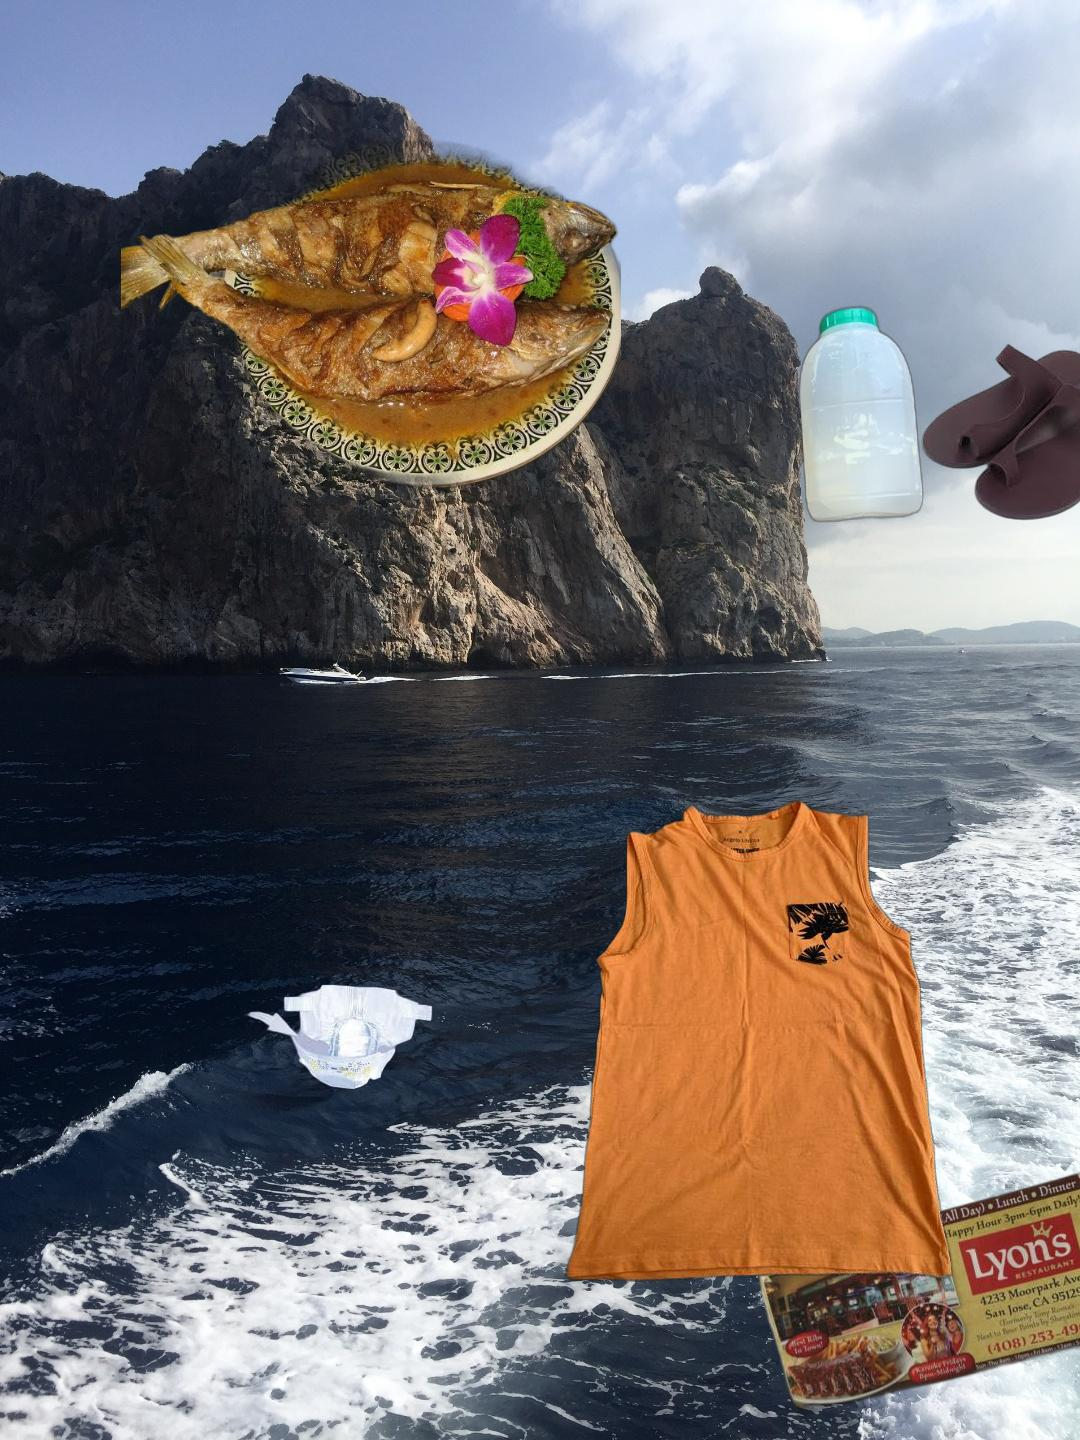biological: (121, 117, 621, 490)
clothes: (563, 796, 956, 1286)
paper: (745, 1152, 1080, 1421)
penholder: (1072, 1407, 1080, 1440)
plastic-bottles: (796, 300, 928, 528)
shoes: (920, 341, 1080, 523)
trash: (242, 982, 434, 1092)
